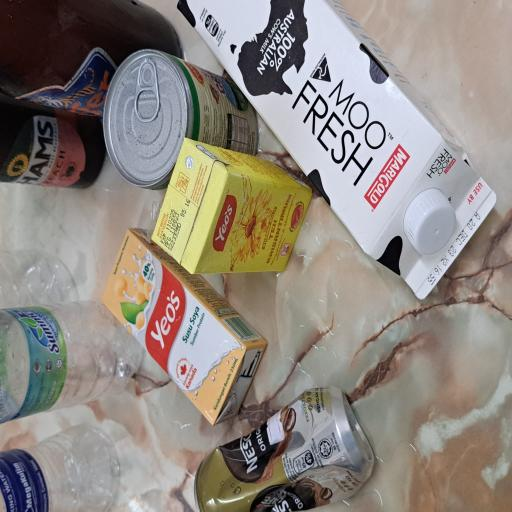can: (0, 254, 97, 504), (244, 138, 347, 342)
drink carton: (159, 231, 384, 512), (66, 135, 214, 357), (178, 199, 268, 418)
glass bottle: (298, 0, 384, 247), (243, 0, 311, 147)
plastic bottle: (71, 0, 157, 185), (0, 2, 66, 162), (134, 0, 200, 95)
pop tab: (293, 178, 341, 209)
